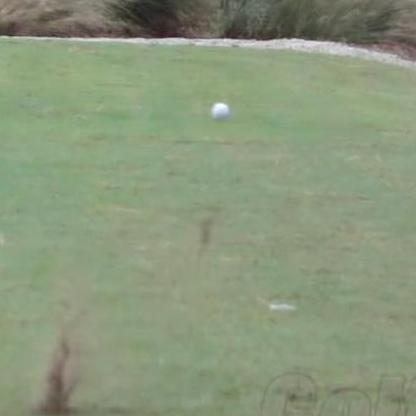golfball: (207, 100, 227, 120)
